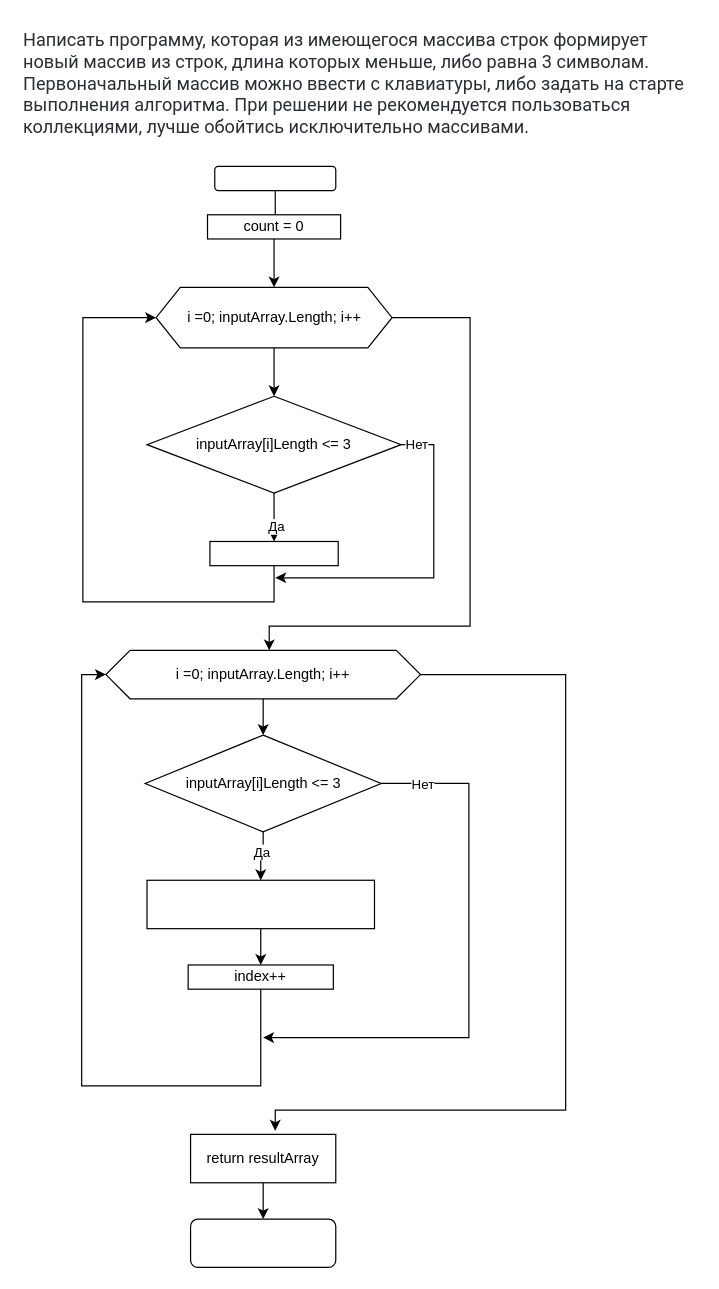
Some shapes in this 719 by 1289 pixel diagram are drawn without their labels. The shapes that lost their labels are listed below. From the top down, each one's centre as x and y in pixels, then its label:
point (275, 178): Начало
point (273, 553): count++
point (260, 904): resultArray[index] = inputArray[i]
point (262, 1242): Конец
